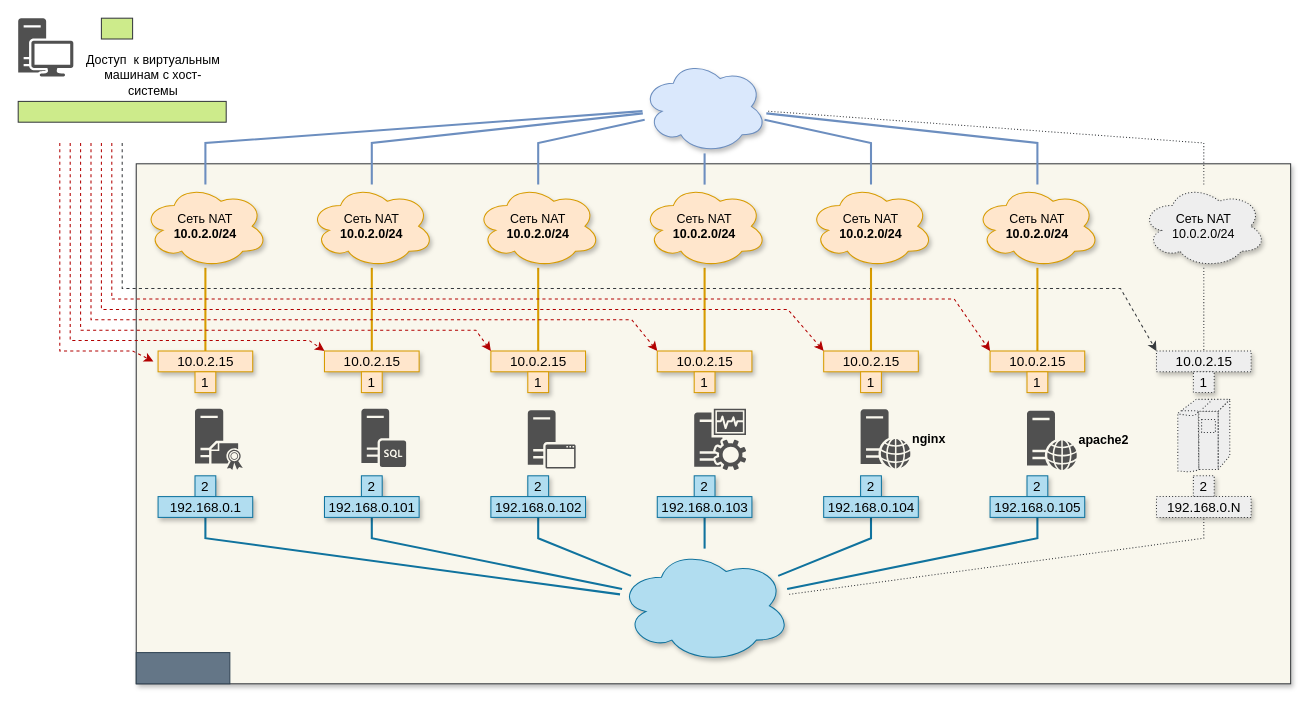
The diagram is 1316 pixels wide and 709 high, and some of its shapes have lost their labels. The shapes that lost their labels are listed below. From the top down, each one's centre as x and y in pixels, then its label:
At point 45,47: "Host PC".
At point 116,28: "NAT".
At point 121,111: "127.0.0.1:X --> Вирт. машина:Y".
At point 705,108: "Интернет".
At point 218,439: "master".
At point 383,437: "pgpro".
At point 551,439: "pgadmin4".
At point 720,439: "zbx".
At point 1203,435: "srv".
At point 705,606: "192.168.0.0/24 Внутренняя сеть intnet".
At point 182,668: "VirtualBox".
